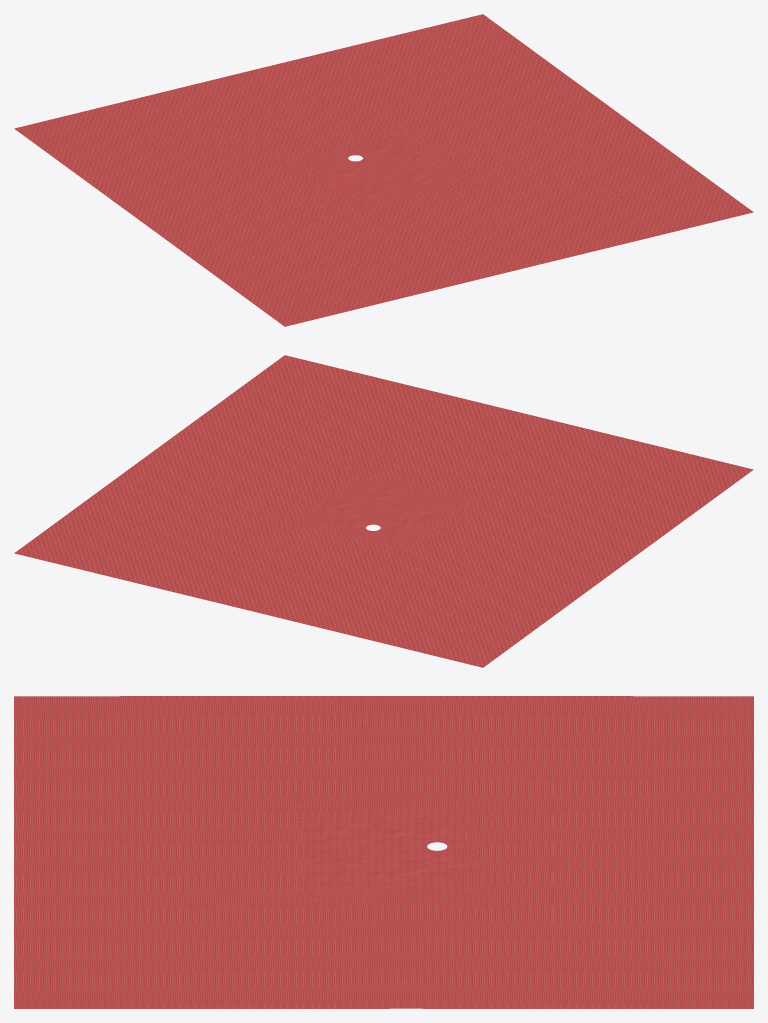
The model's file is ground.FBX.
3 views of the same model, one above another, from view 1: azimuth 30°, elevation 25°; view 2: azimuth 150°, elevation 25°; view 3: azimuth 270°, elevation 25° (orthographic). The views are drawn at different scales.
Visible parts, largest first — view 1: Ground; view 2: Ground; view 3: Ground.
Part boxes in pixels (x1,y1,x2,y2): Ground: (14, 14, 753, 326); Ground: (14, 355, 753, 667); Ground: (14, 696, 753, 1008).
Bounding box in the file's own units: 36156 × 75.54 × 36156.
